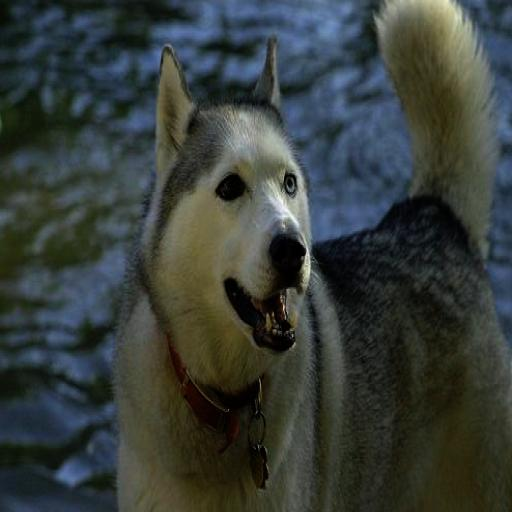dog_face: (158, 31, 315, 364)
